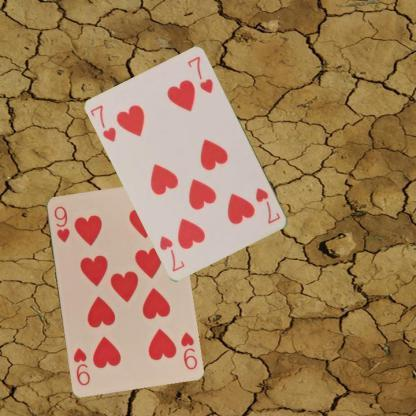7h: (88, 102, 118, 144), (253, 185, 282, 227)
9h: (178, 329, 198, 371), (51, 203, 71, 244)
